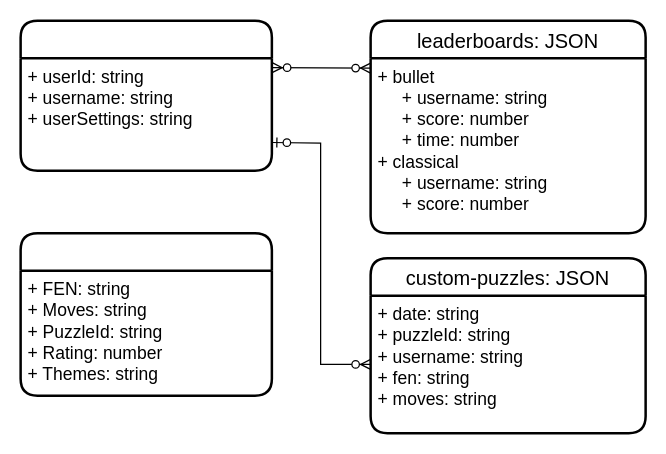
The diagram is 666 pixels wide and 454 high, and some of its shapes have lost their labels. Here are the shapes that lost their labels. From the top down, the box of each, then its label:
(19, 19, 272, 171): users: JSON
(19, 231, 272, 396): checkmates: JSON
